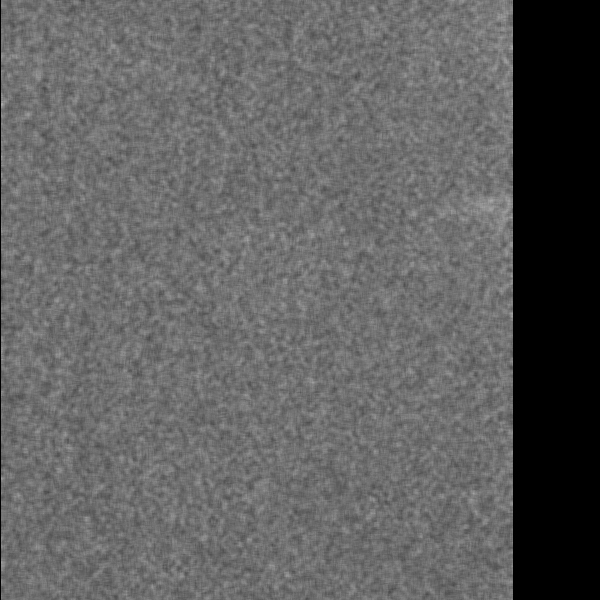spark: (475, 187, 514, 228)
